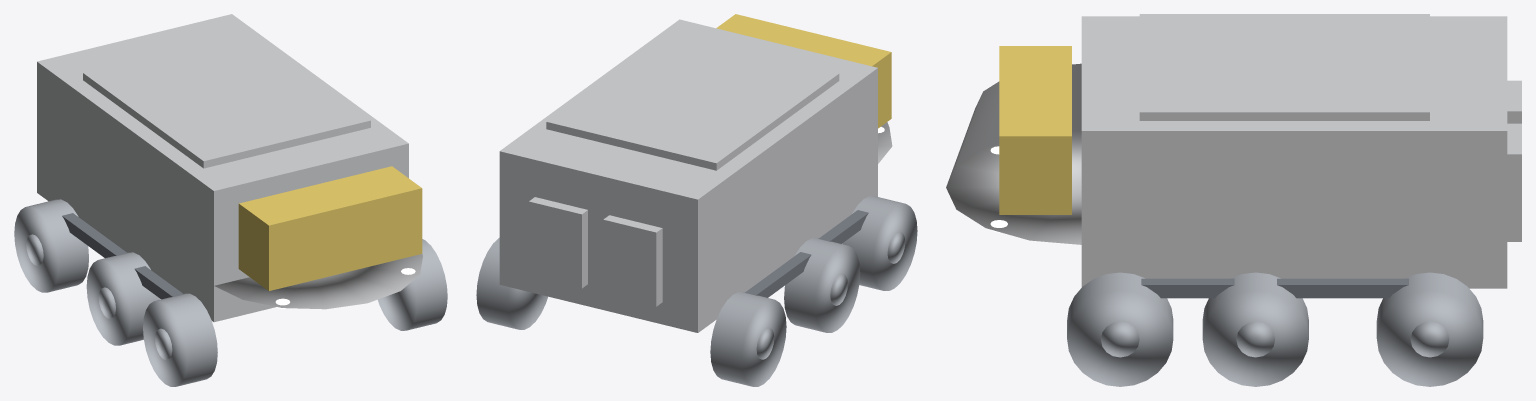
The model's file is crew_rover.glb.
The picture shows the model from 3 angles, left to right: view 1: azimuth 30°, elevation 25°; view 2: azimuth 150°, elevation 25°; view 3: azimuth 270°, elevation 25°; orthographic projection. The views are drawn at different scales.
Visible parts, largest first — view 1: EquipmentRoot; view 2: EquipmentRoot; view 3: EquipmentRoot.
Part boxes in pixels (<box>): EquipmentRoot: <box>14,14,447,386</box>; EquipmentRoot: <box>476,14,917,386</box>; EquipmentRoot: <box>946,14,1521,386</box>.
Size of the model in its own units: 3.8 by 2.82 by 5.95.
